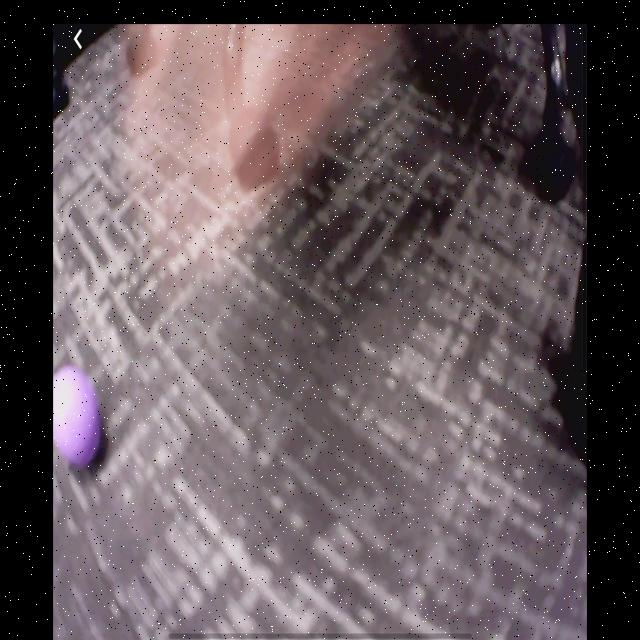ball: (52, 363, 102, 469)
